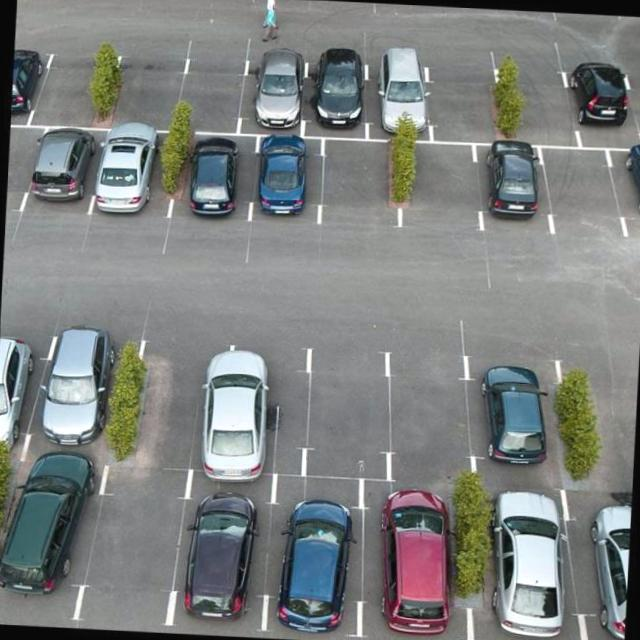car: (352, 477, 468, 632), (262, 474, 366, 627), (470, 491, 571, 640), (182, 474, 272, 623), (0, 468, 88, 610), (142, 338, 232, 470), (464, 362, 556, 479), (39, 332, 122, 454), (225, 349, 306, 466), (568, 491, 631, 640), (96, 128, 178, 225), (178, 134, 255, 228), (250, 138, 322, 229), (360, 49, 425, 144), (300, 54, 370, 136), (572, 59, 640, 143), (28, 121, 90, 212), (238, 49, 302, 132), (482, 142, 538, 235), (0, 329, 38, 460), (613, 149, 640, 239), (10, 47, 40, 123)
free: (80, 464, 180, 618), (307, 353, 388, 479), (391, 354, 464, 480), (572, 360, 637, 494), (311, 139, 398, 230), (404, 140, 478, 240), (494, 60, 574, 144), (424, 61, 499, 145), (104, 52, 182, 130), (539, 151, 610, 235), (178, 54, 242, 136), (40, 46, 108, 123), (6, 128, 29, 210)
